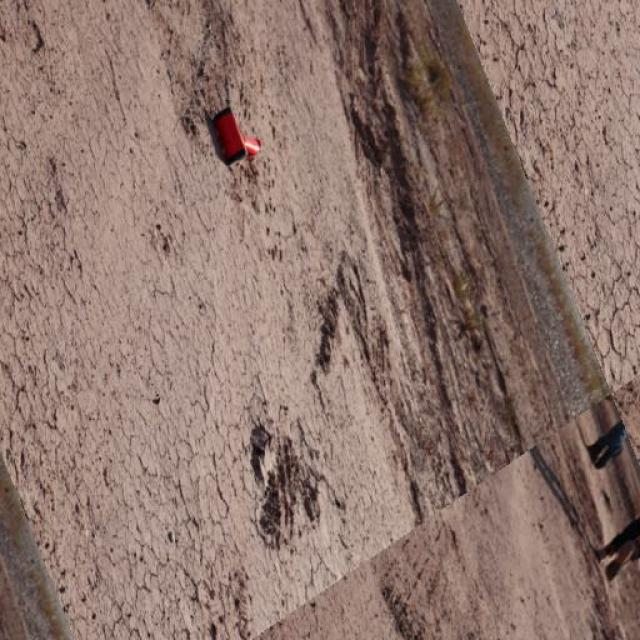mallet: (212, 105, 262, 165)
